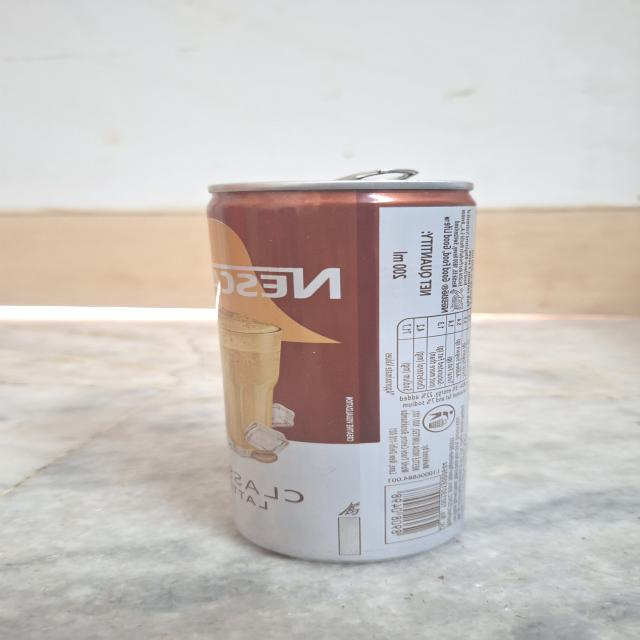Nescafe Classic Iced Latte: (215, 171, 515, 563)
